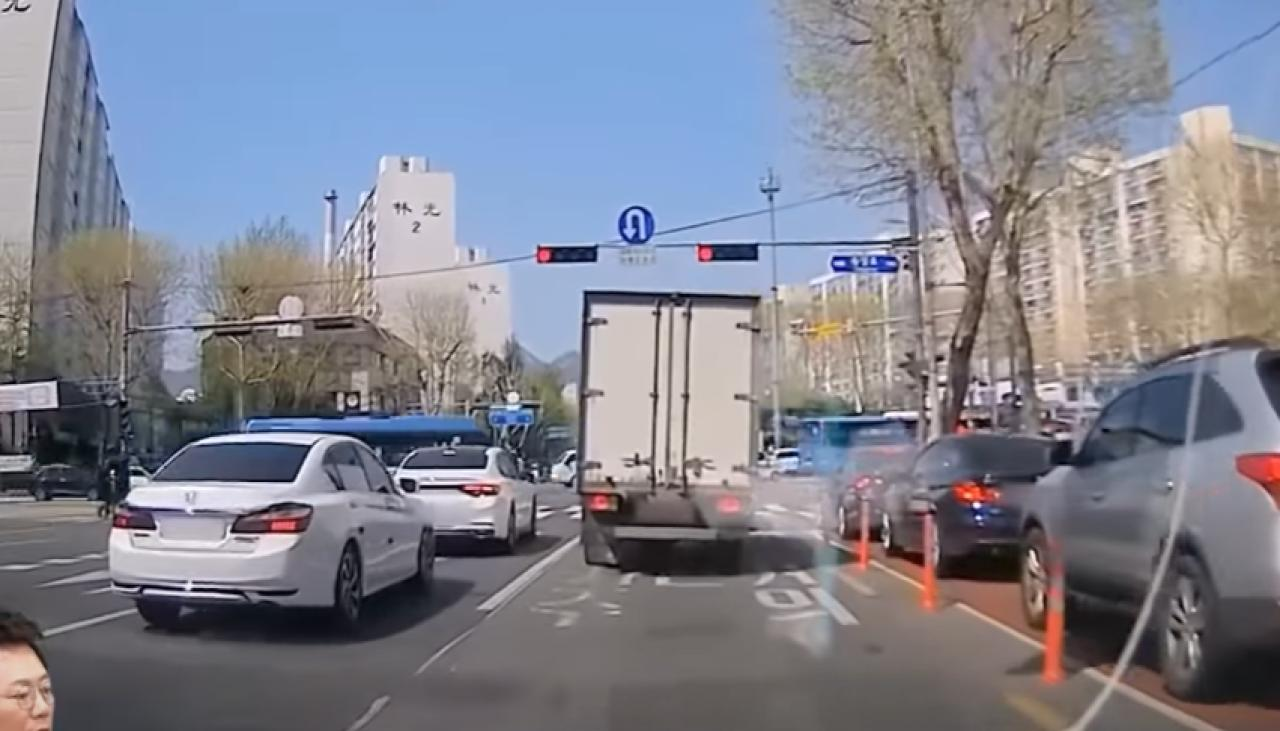Red Light: (536, 246, 553, 263), (698, 244, 714, 262)
